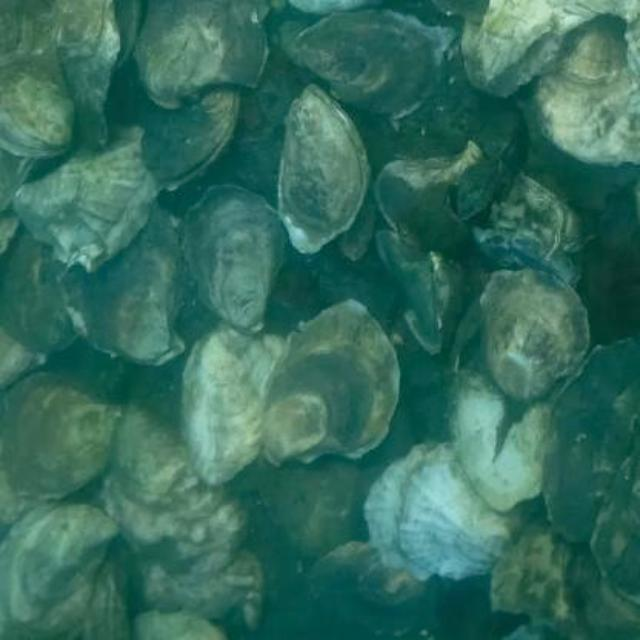Oyster-Closed: (103, 406, 251, 580), (263, 303, 401, 467), (365, 444, 528, 576), (490, 494, 638, 638), (13, 124, 154, 269), (58, 204, 183, 362), (541, 340, 638, 543), (182, 322, 291, 485), (295, 9, 455, 118), (460, 0, 638, 96), (0, 500, 118, 638), (182, 185, 288, 335), (278, 85, 371, 255), (538, 17, 638, 166), (0, 375, 119, 499), (482, 270, 591, 400), (135, 0, 266, 103), (470, 172, 585, 282), (134, 546, 265, 626), (264, 460, 367, 556), (315, 539, 425, 628), (378, 231, 454, 352), (0, 224, 73, 348), (0, 49, 81, 158), (60, 3, 118, 153), (596, 449, 638, 603), (65, 566, 130, 638), (45, 0, 110, 51), (0, 0, 55, 60), (134, 614, 232, 638), (0, 154, 37, 209), (0, 211, 18, 257)
Oyster-Open: (141, 86, 240, 192)
